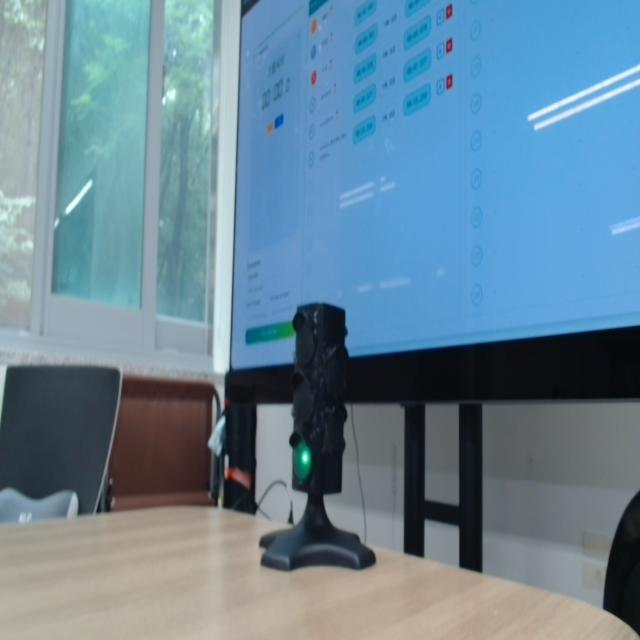green_light: (293, 443, 312, 483)
